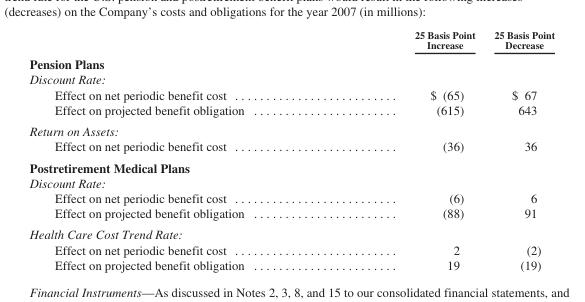table: (28, 28, 554, 271)
table column: (28, 28, 328, 271), (328, 28, 483, 271), (483, 28, 554, 271)
table column header: (28, 28, 554, 53)
table projected row header: (28, 53, 554, 71), (28, 120, 554, 138), (28, 156, 554, 174), (28, 223, 554, 241), (28, 71, 554, 86), (28, 174, 554, 189)
table row: (28, 28, 554, 53), (28, 101, 554, 120), (28, 53, 554, 71), (28, 120, 554, 138), (28, 138, 554, 156), (28, 156, 554, 174), (28, 205, 554, 223), (28, 223, 554, 241), (28, 189, 554, 205), (28, 71, 554, 86), (28, 86, 554, 101), (28, 174, 554, 189), (28, 241, 554, 256), (28, 256, 554, 271)
